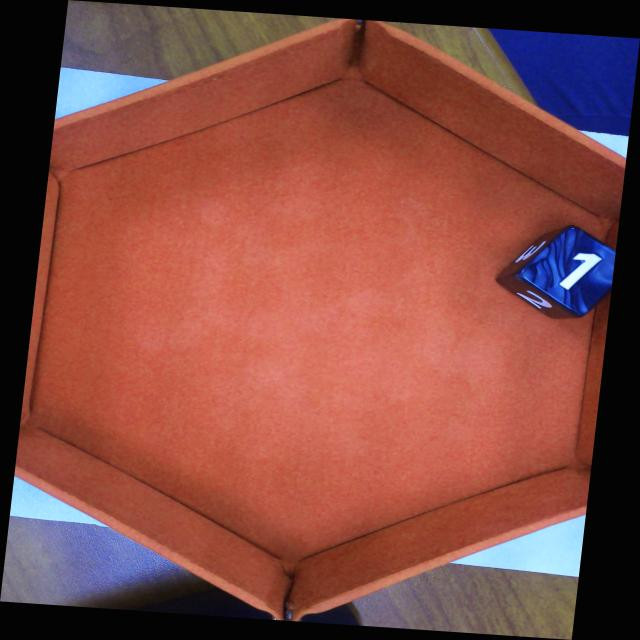dice: (526, 230, 616, 313)
